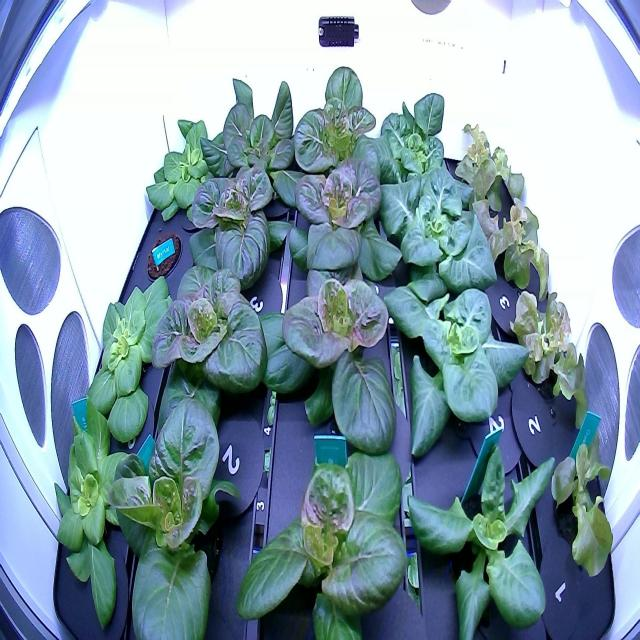pod: (142, 220, 184, 285)
young: (90, 367, 252, 640), (230, 435, 415, 640), (246, 252, 404, 478), (399, 428, 566, 640), (376, 255, 534, 473), (51, 392, 158, 632), (361, 150, 506, 310), (146, 244, 272, 416), (278, 124, 408, 290), (78, 268, 187, 457), (176, 147, 298, 299), (283, 56, 396, 202), (195, 71, 304, 217), (142, 106, 234, 230), (364, 87, 455, 205)
